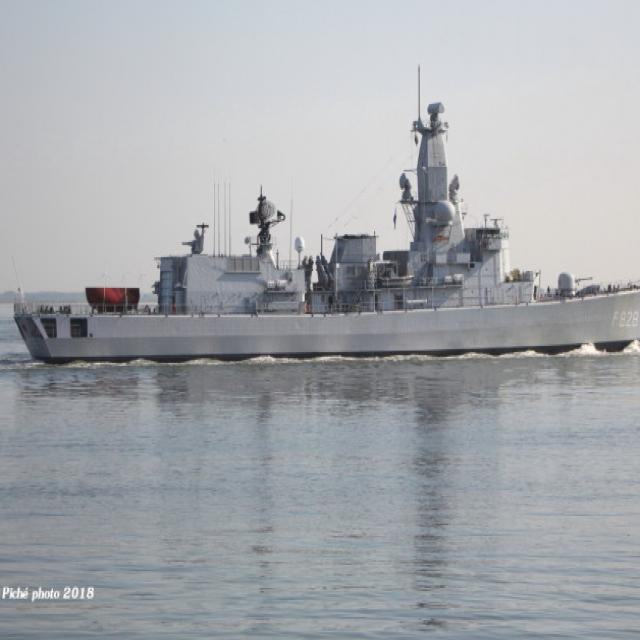Fragata: (5, 59, 640, 378)
